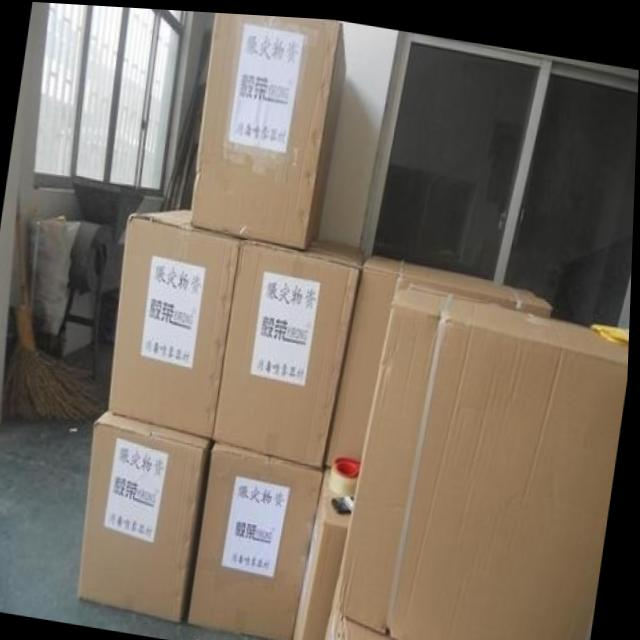box: (338, 279, 631, 640), (328, 249, 553, 461), (191, 10, 346, 246), (215, 231, 365, 464), (110, 205, 243, 435), (80, 410, 214, 620), (191, 441, 325, 639), (296, 467, 353, 640)
